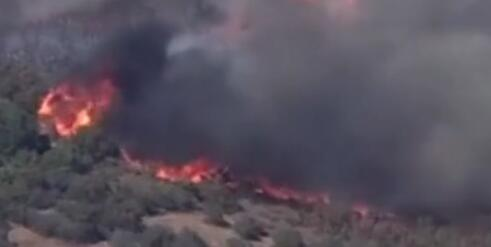fire: (131, 154, 377, 216), (35, 78, 115, 141)
yanwu: (120, 0, 488, 164)
